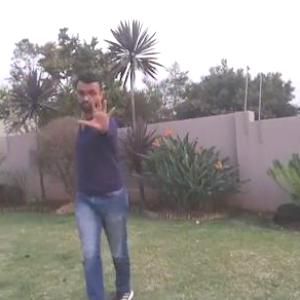follow_hand: (75, 90, 121, 134)
